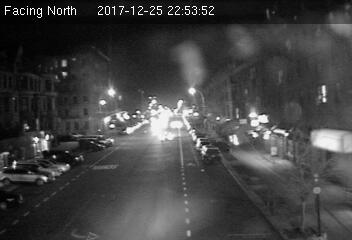car: (158, 132, 177, 145)
